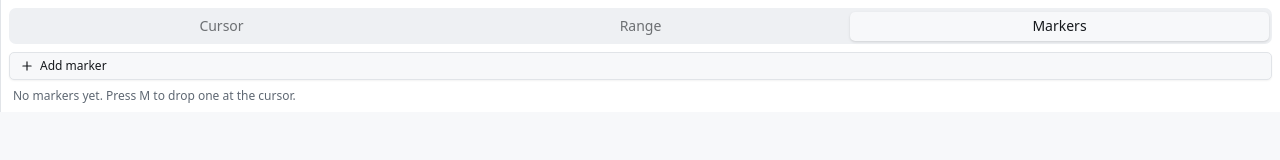
Scenario: markers tab › add, rename and jump to a marker
Click the button "Add marker" at (73, 66), box [9, 52, 1272, 80]
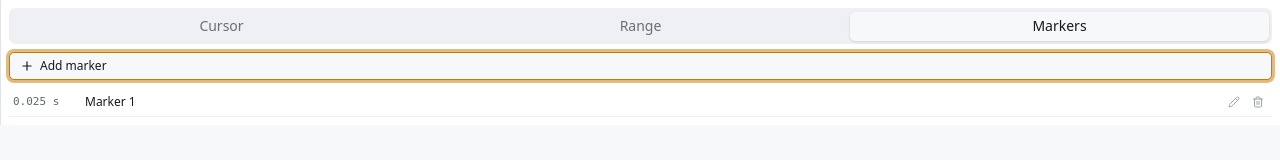
Now the element with test id "marker-row" shows "Marker 1", box [81, 90, 1220, 114]
Click the button named "Rename Marker 1" at (1234, 102), box [1224, 92, 1244, 112]
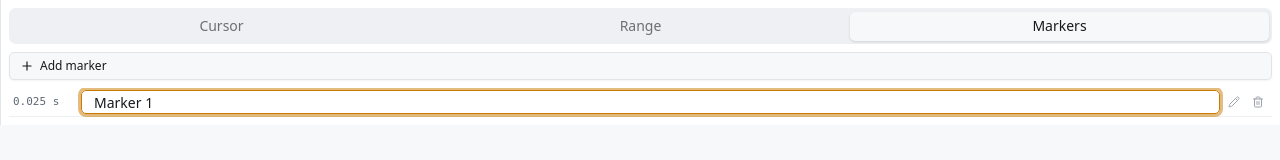
Replace the text in the field named "Marker name" with "Shift" at (650, 102), box [81, 90, 1220, 114]
Then press Enter
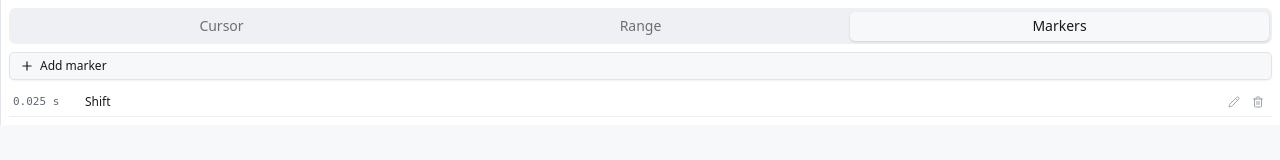
Now the element with test id "marker-row" shows "Shift"
Click the button "Shift" at (98, 102), box [81, 90, 1220, 114]
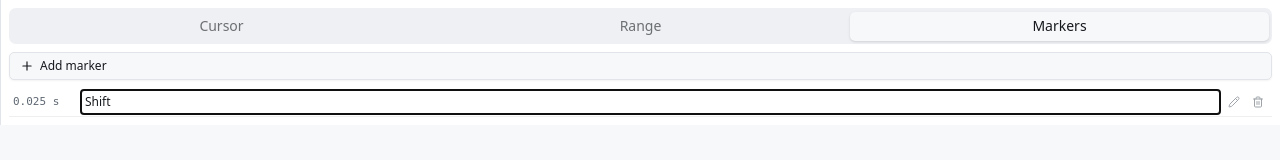
Click the button named "Delete Shift" at (1258, 102), box [1248, 92, 1268, 112]
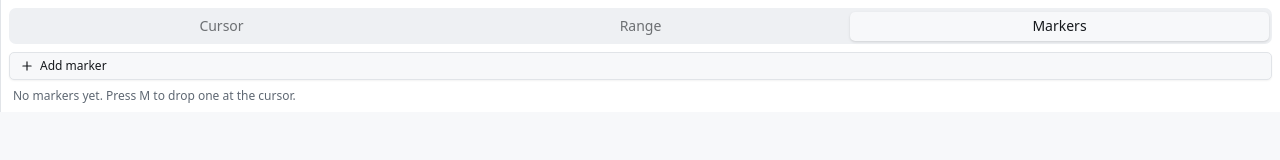
Now the element with test id "marker-row" is gone
